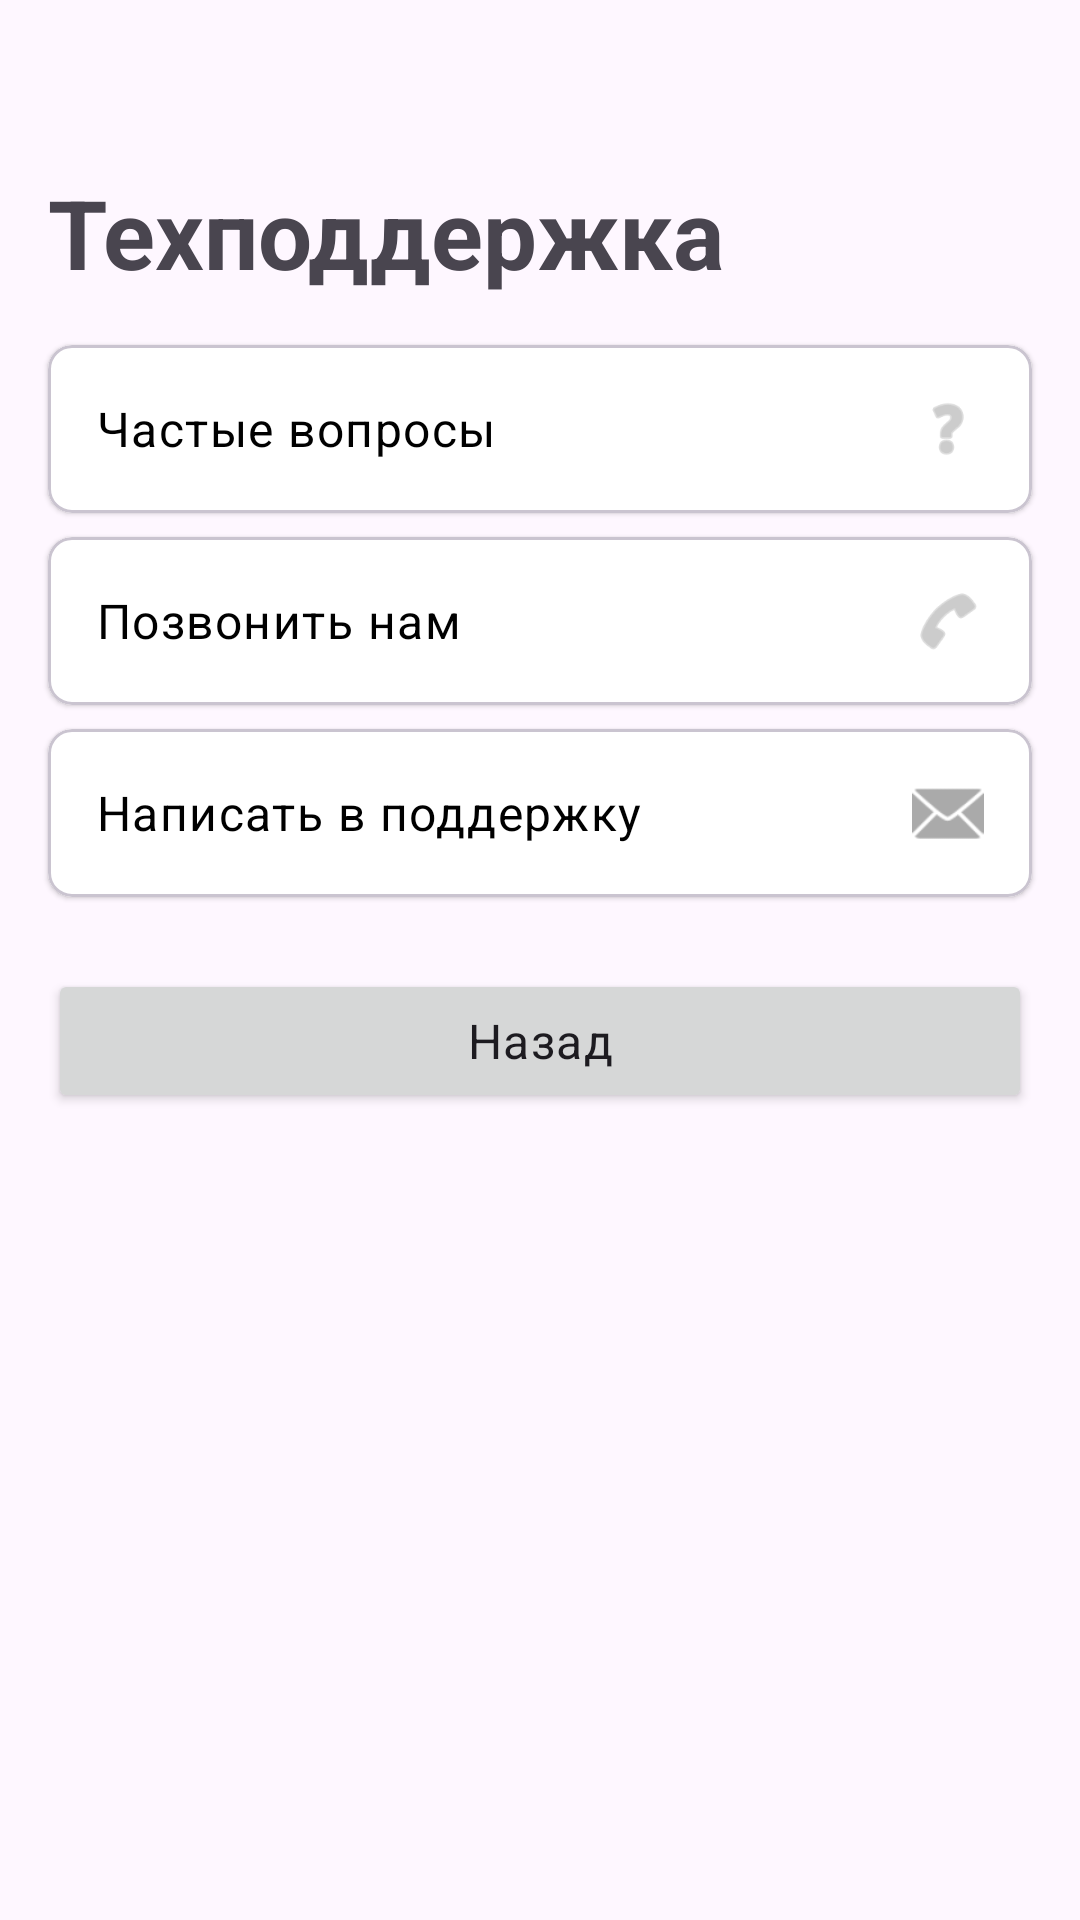

Icons on this 1080x1920 Android screen, each with the point to tap as (x=x, y=y):
call: (x=948, y=621)
email: (x=948, y=814)
help: (x=948, y=429)
